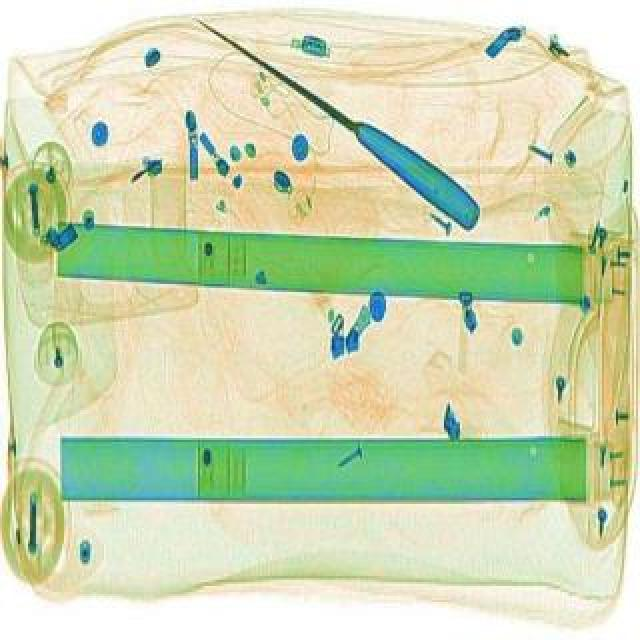knife: (186, 4, 490, 238)
